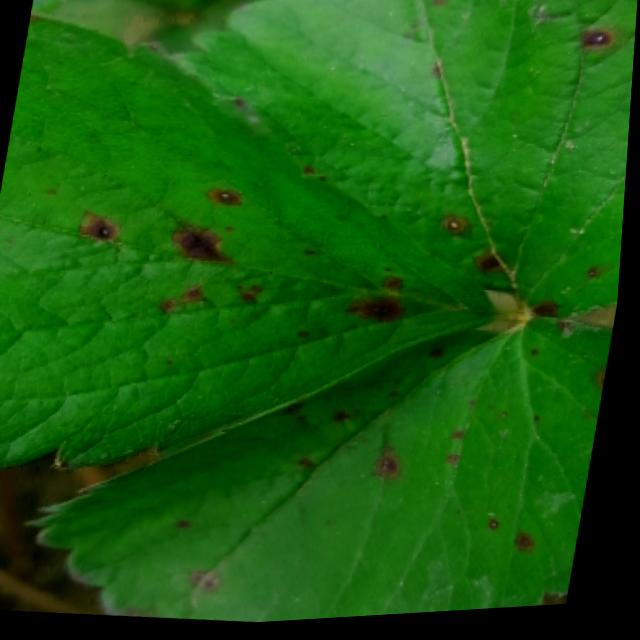Leaf Spot: (0, 11, 500, 473), (27, 323, 618, 626), (166, 0, 638, 325)
